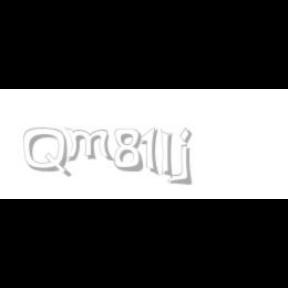1: (137, 128, 159, 176)
8: (114, 128, 142, 172)
I: (161, 128, 174, 180)
Q: (24, 128, 70, 178)
j: (178, 128, 206, 186)
m: (64, 128, 116, 162)
